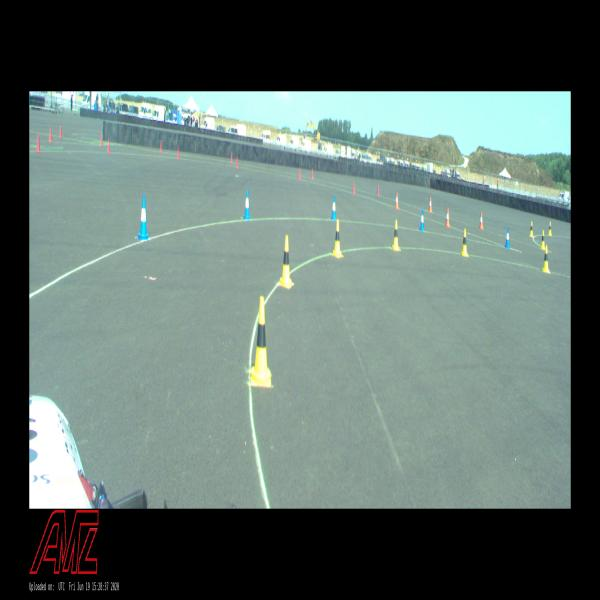blue_cone: (137, 195, 149, 240), (243, 189, 251, 221), (330, 196, 337, 220), (505, 226, 510, 248), (419, 210, 424, 231)
orange_cone: (445, 208, 450, 228), (479, 212, 483, 229), (395, 193, 398, 210), (429, 197, 432, 212)
unknown_cone: (36, 134, 41, 152), (48, 127, 52, 142), (59, 125, 62, 138), (100, 133, 103, 145), (108, 138, 110, 154), (177, 146, 179, 159), (236, 155, 238, 168), (353, 182, 355, 195), (160, 140, 162, 152), (298, 168, 300, 180), (312, 167, 314, 179), (377, 184, 379, 196), (230, 152, 232, 162)
yellow_cone: (251, 296, 271, 387), (279, 235, 293, 288), (332, 219, 342, 258), (392, 220, 400, 250), (542, 245, 550, 273), (461, 229, 468, 256), (540, 230, 546, 250), (529, 221, 534, 237), (548, 222, 552, 235)
